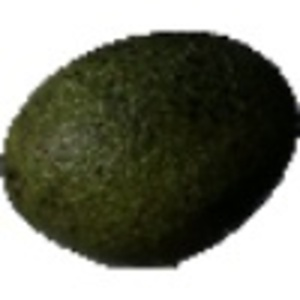abacate: (6, 28, 297, 272)
